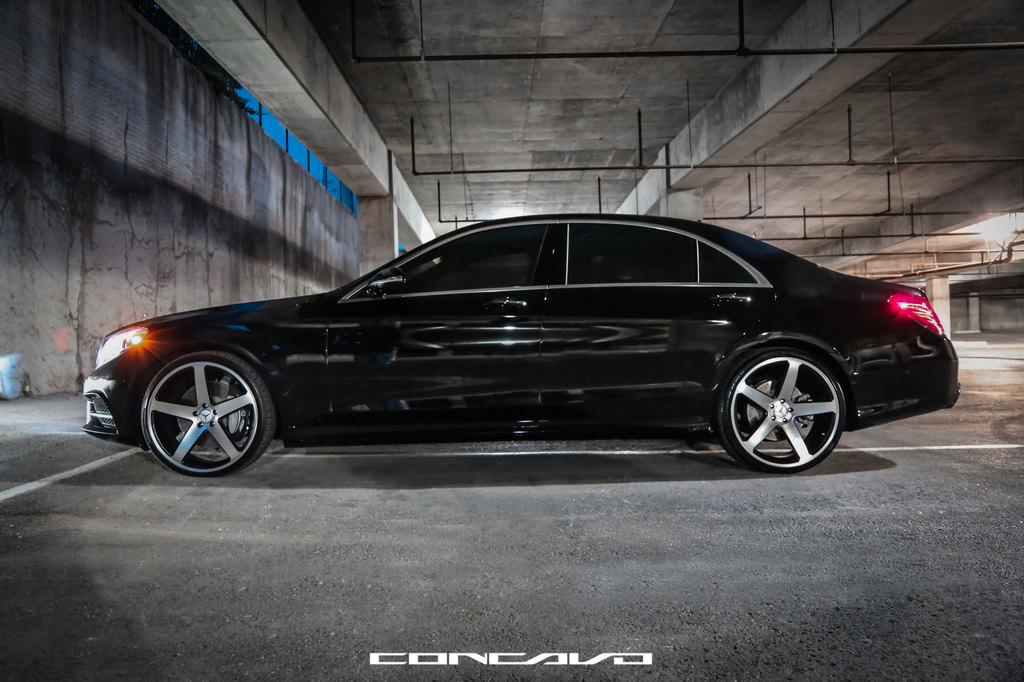Car: (80, 211, 960, 475)
